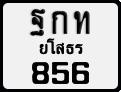letters: (73, 9, 91, 35), (29, 8, 45, 37), (30, 61, 50, 84), (51, 61, 70, 85), (71, 61, 90, 85), (51, 10, 68, 35)
province: (38, 37, 84, 56)
